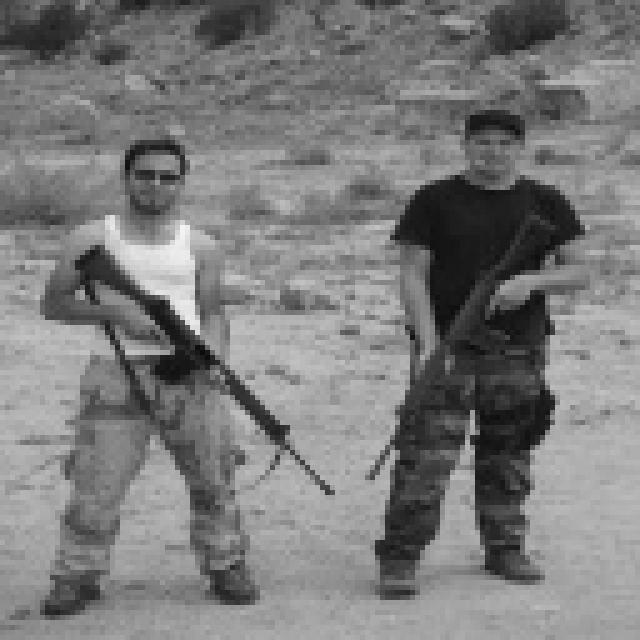Rifle: (0, 200, 360, 515), (312, 180, 576, 490)
